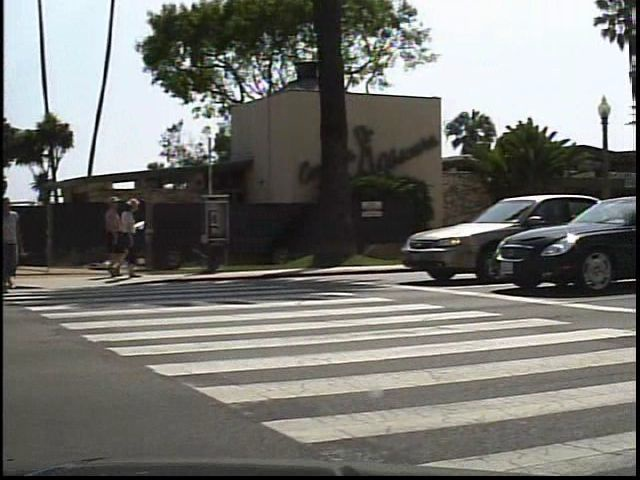person: (2, 194, 30, 294)
